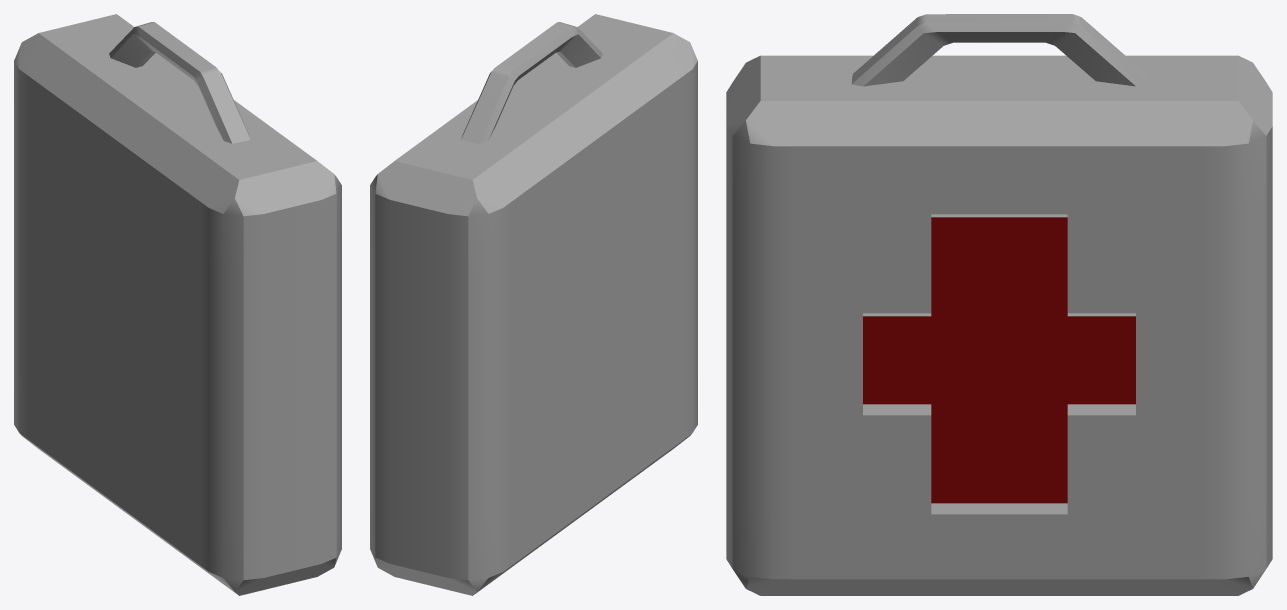
Rendered from MedPack.fbx.
The picture shows the model from 3 angles, left to right: view 1: azimuth 30°, elevation 25°; view 2: azimuth 150°, elevation 25°; view 3: azimuth 270°, elevation 25°; orthographic projection. The views are drawn at different scales.
Parts seen in each view (by area): view 1: pCube2; view 2: pCube2; view 3: pCube2.
Part boxes in pixels (x1,y1,x2,y2): pCube2: (14, 14, 341, 595); pCube2: (370, 14, 697, 595); pCube2: (726, 14, 1272, 595).
Bounding box in the file's own units: 0.1285 × 0.4307 × 0.384.
